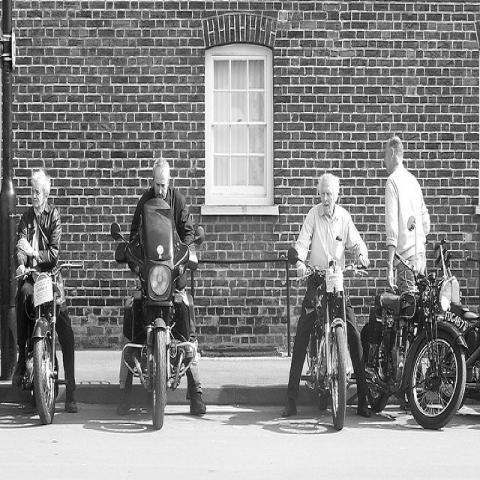motorcycle: (109, 196, 205, 434), (361, 244, 466, 432), (286, 244, 368, 426), (15, 264, 84, 424), (448, 278, 480, 409)
